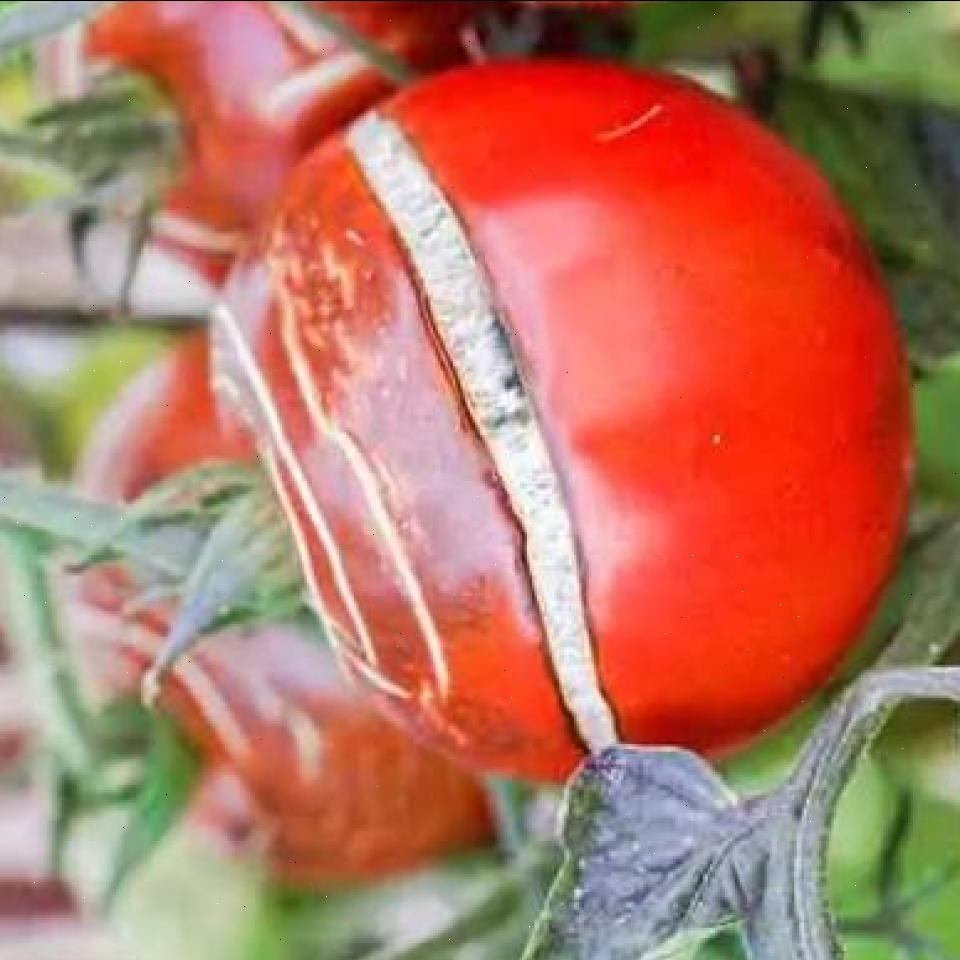Cracking: (332, 107, 642, 762), (267, 256, 454, 714), (55, 575, 257, 788), (236, 633, 332, 833), (247, 0, 391, 133)
